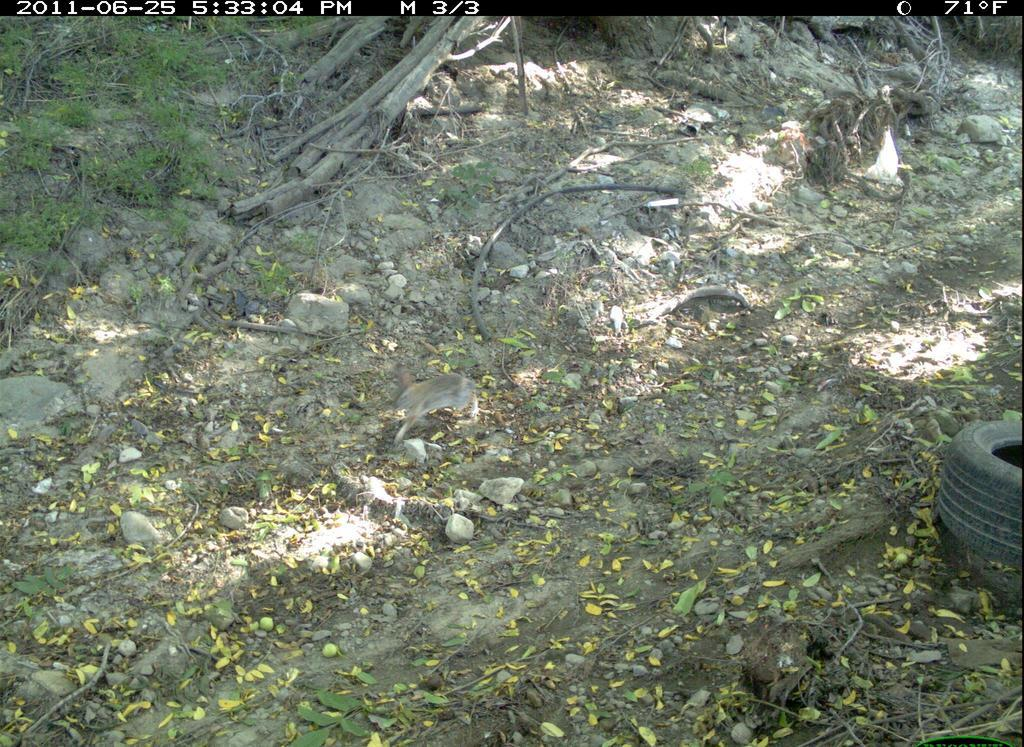rabbit: (383, 365, 493, 454)
